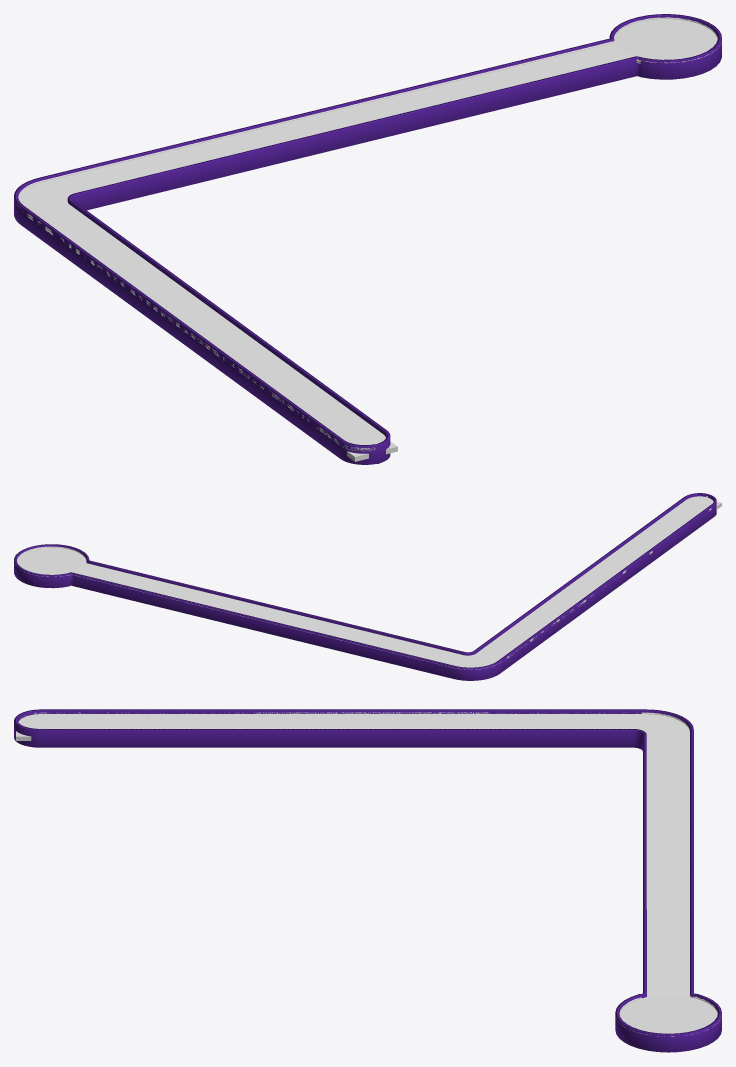
File: platform.fbx
The picture shows the model from 3 angles, top to bottom: view 1: azimuth 30°, elevation 25°; view 2: azimuth 150°, elevation 25°; view 3: azimuth 270°, elevation 25°; orthographic projection. The views are drawn at different scales.
Visible parts, largest first — view 1: Plane.002, Plane, Circle, Plane.003; view 2: Plane.002, Plane, Circle, Plane.003; view 3: Plane, Plane.002, Circle, Plane.003.
Part boxes in pixels (left/top/right/bottom): Plane.002: left=14, top=14, right=721, bottom=464; Plane: left=18, top=42, right=632, bottom=444; Circle: left=613, top=19, right=717, bottom=59; Plane.003: left=15, top=17, right=721, bottom=451; Plane.002: left=14, top=493, right=716, bottom=680; Plane: left=74, top=496, right=713, bottom=667; Circle: left=17, top=547, right=86, bottom=574; Plane.003: left=15, top=496, right=711, bottom=669; Plane: left=18, top=714, right=690, bottom=996; Plane.002: left=14, top=709, right=721, bottom=1052; Circle: left=619, top=997, right=717, bottom=1033; Plane.003: left=25, top=712, right=720, bottom=1036.
Bounding box in the file's own units: 9871 × 250 × 9062.
5 materials, 1 textured.
